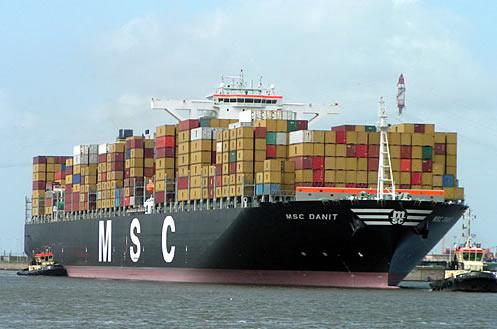Cargoship: (21, 62, 470, 299)
otherboat: (432, 237, 497, 294), (13, 246, 71, 276)
